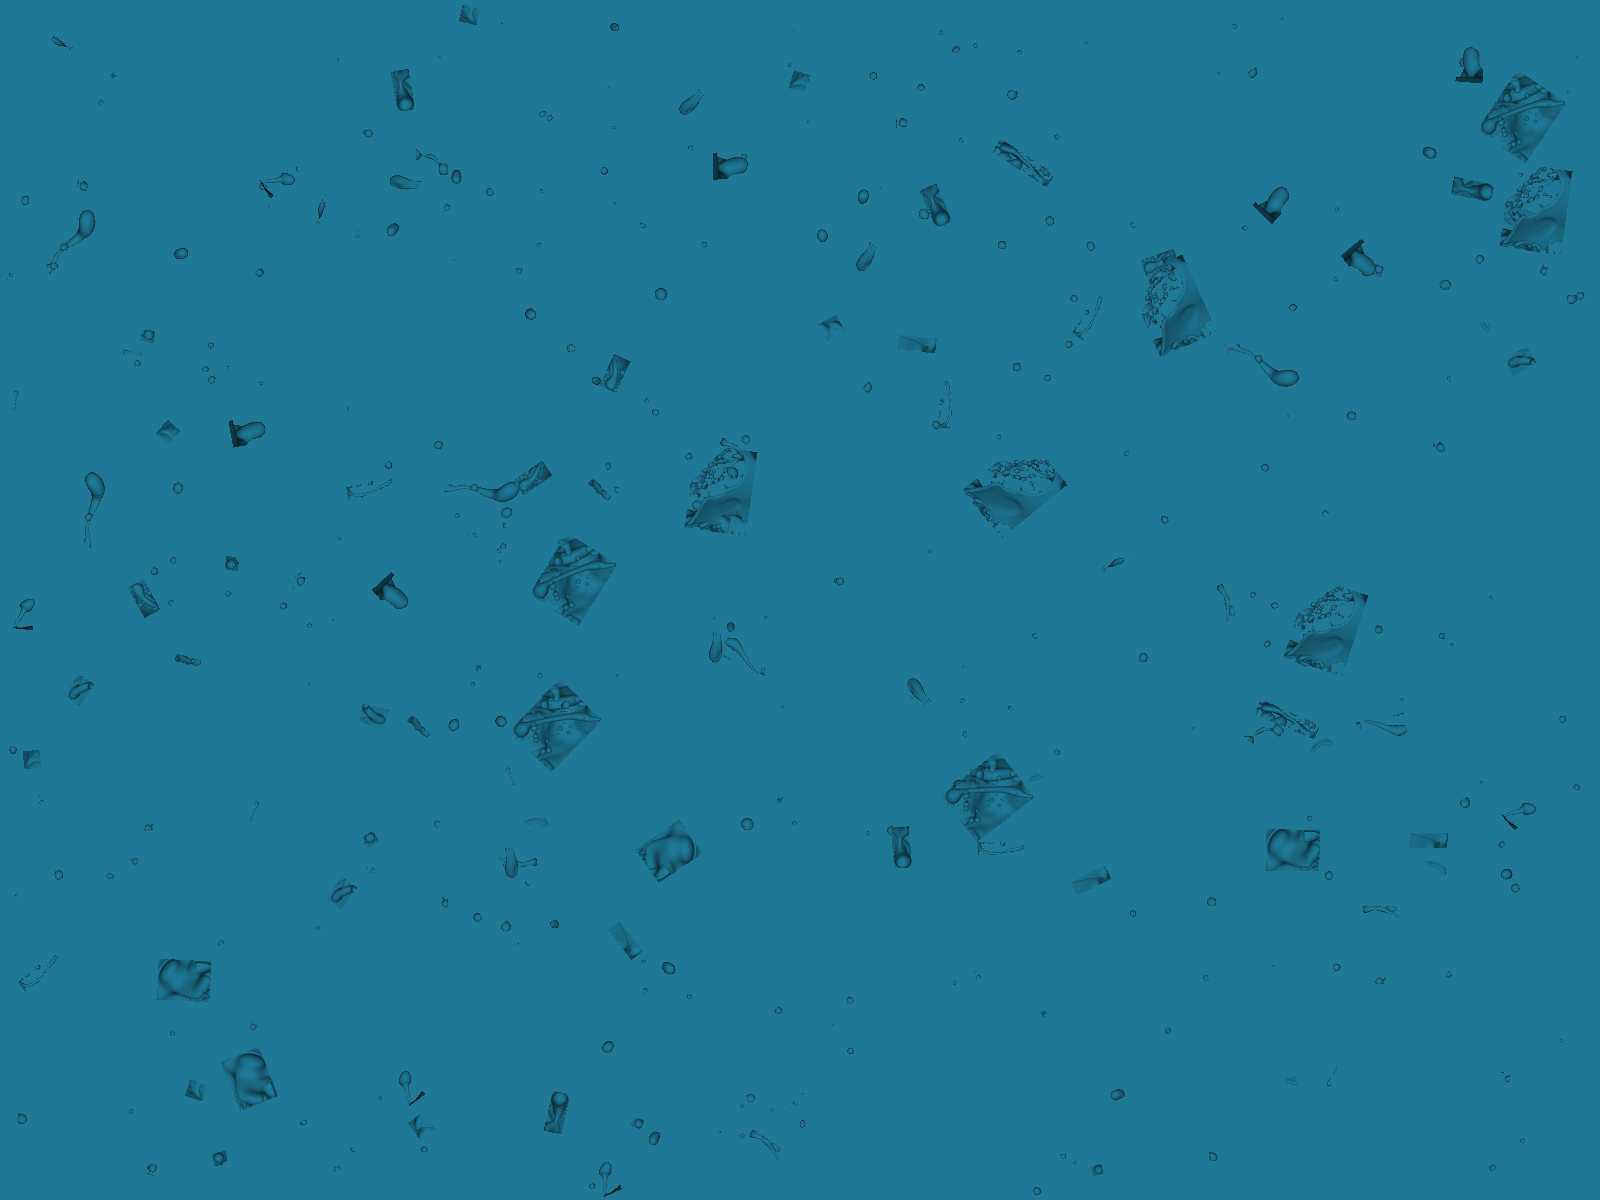Attached ligament: (508, 678, 603, 773), (940, 750, 1036, 843), (528, 532, 619, 626), (1477, 69, 1567, 164), (991, 137, 1056, 188), (1254, 700, 1322, 740), (1497, 788, 1541, 831), (256, 158, 300, 199), (384, 1066, 426, 1111), (585, 1157, 624, 1200), (918, 183, 952, 229), (513, 460, 553, 495), (127, 579, 161, 619), (598, 353, 631, 395), (543, 1090, 571, 1134), (1140, 248, 1180, 279), (1450, 176, 1495, 203), (6, 592, 37, 632), (391, 68, 416, 113), (325, 876, 358, 910), (63, 673, 94, 707), (1503, 345, 1537, 377), (889, 826, 913, 868), (1502, 204, 1534, 231), (358, 703, 391, 729), (587, 476, 614, 504), (406, 713, 432, 741), (1160, 255, 1178, 284), (174, 653, 203, 669)
Detached ligament: (50, 465, 136, 551), (441, 450, 527, 534), (1226, 326, 1304, 408), (34, 205, 112, 279), (719, 634, 785, 681), (1343, 712, 1409, 747), (16, 949, 66, 995), (1071, 290, 1111, 342), (1242, 711, 1286, 755), (847, 241, 884, 281), (345, 474, 398, 502), (745, 1129, 787, 1163), (670, 88, 711, 124), (716, 437, 758, 470), (900, 669, 932, 710), (1209, 584, 1240, 626), (380, 168, 421, 199), (703, 632, 731, 671), (414, 146, 449, 176), (1099, 548, 1133, 577), (937, 377, 956, 429), (501, 847, 524, 885), (976, 841, 1028, 857), (42, 32, 76, 54), (495, 852, 538, 870), (1362, 905, 1403, 920), (499, 764, 523, 788), (314, 194, 328, 226), (8, 388, 25, 412), (121, 344, 144, 361), (1324, 1066, 1339, 1088), (248, 800, 262, 821)
bag: (963, 436, 1068, 539), (1125, 255, 1218, 358), (1283, 576, 1369, 677), (684, 442, 758, 537), (1499, 163, 1574, 256), (635, 819, 703, 884), (220, 1046, 278, 1112), (156, 958, 212, 1003), (370, 571, 418, 619), (1266, 829, 1320, 871), (1252, 176, 1299, 224), (1340, 238, 1386, 286), (228, 413, 271, 447), (1455, 43, 1487, 84), (712, 151, 752, 180)
drop: (656, 955, 682, 982), (519, 303, 544, 328), (1417, 141, 1443, 166), (490, 708, 514, 735), (852, 183, 876, 209), (166, 479, 190, 504), (1430, 274, 1454, 297), (1494, 862, 1517, 887), (1198, 892, 1221, 915), (813, 224, 834, 248), (1130, 644, 1151, 667), (1338, 407, 1361, 429), (829, 568, 850, 591), (1455, 50, 1477, 72), (358, 121, 379, 142), (598, 1035, 619, 1058), (45, 863, 67, 884), (723, 463, 745, 483), (737, 813, 758, 833), (1036, 211, 1058, 229), (360, 829, 380, 850), (721, 616, 741, 637), (496, 919, 517, 939), (383, 219, 403, 239), (741, 1089, 762, 1108), (562, 337, 581, 358), (1529, 211, 1550, 229), (144, 558, 163, 579), (1455, 795, 1474, 816), (645, 1128, 664, 1148), (1107, 1085, 1128, 1104), (736, 430, 757, 447), (1294, 649, 1313, 668), (546, 915, 564, 934), (1081, 237, 1100, 256), (653, 284, 671, 303), (171, 246, 193, 262), (249, 262, 268, 280), (210, 1150, 229, 1167), (913, 202, 931, 221), (1049, 129, 1067, 147), (687, 495, 704, 514), (1320, 866, 1339, 884), (430, 436, 449, 454), (253, 179, 271, 197), (480, 185, 498, 203), (43, 256, 60, 274), (495, 505, 513, 523), (1507, 879, 1524, 896), (446, 715, 462, 734), (139, 328, 156, 344), (1470, 250, 1487, 267), (467, 910, 485, 926), (1300, 812, 1318, 828), (680, 989, 697, 1007), (969, 38, 986, 54), (301, 619, 317, 637), (950, 776, 966, 794), (1002, 88, 1019, 105), (859, 379, 877, 396), (607, 19, 624, 35), (217, 585, 233, 601), (842, 992, 858, 1008), (927, 416, 944, 432), (1284, 300, 1300, 316), (912, 78, 929, 95), (292, 571, 309, 587), (1314, 504, 1330, 521), (1238, 221, 1254, 238), (1561, 292, 1579, 308), (449, 168, 464, 185), (1157, 514, 1173, 529), (202, 372, 217, 388), (588, 373, 603, 389), (1327, 959, 1343, 974), (1571, 287, 1587, 303), (1028, 1182, 1044, 1197), (596, 163, 612, 178), (1284, 715, 1300, 730), (733, 1129, 750, 1145), (16, 1113, 31, 1129), (1009, 359, 1026, 374), (765, 1103, 780, 1119), (1369, 621, 1385, 637), (864, 68, 879, 83), (1256, 460, 1271, 475), (380, 456, 396, 471), (530, 239, 546, 255), (275, 597, 290, 613), (511, 263, 527, 279), (296, 1117, 311, 1132), (144, 1162, 159, 1177), (426, 816, 441, 831), (1058, 337, 1075, 350), (1245, 66, 1261, 79), (226, 556, 239, 571), (540, 113, 556, 127), (1012, 45, 1026, 61), (1371, 263, 1385, 279), (630, 1116, 645, 1129), (932, 26, 947, 40), (1440, 372, 1455, 386), (261, 195, 275, 211), (1279, 410, 1293, 425), (771, 1002, 785, 1017), (648, 406, 661, 421), (246, 1018, 260, 1034), (736, 150, 751, 164), (31, 794, 47, 808), (76, 178, 89, 193), (16, 194, 33, 207), (695, 239, 709, 253), (440, 200, 454, 214), (1027, 632, 1041, 645), (1090, 1163, 1104, 1177), (449, 508, 462, 522), (165, 1029, 179, 1042), (1516, 1136, 1529, 1150), (535, 106, 549, 120), (1329, 200, 1343, 214), (1220, 343, 1233, 357), (969, 969, 983, 983), (1206, 1150, 1220, 1163), (1329, 270, 1342, 285), (787, 20, 800, 35), (1556, 1032, 1569, 1047), (1247, 589, 1260, 603), (1041, 372, 1054, 384), (1269, 600, 1283, 613), (1259, 638, 1272, 650), (212, 935, 226, 948), (163, 596, 175, 610), (1125, 221, 1138, 234), (125, 1103, 137, 1117), (493, 556, 506, 568), (787, 1099, 801, 1112), (166, 555, 180, 567), (1057, 1148, 1070, 1162), (609, 197, 621, 211), (1537, 263, 1550, 277), (894, 116, 908, 129), (559, 700, 572, 713), (1120, 449, 1133, 463), (955, 135, 968, 147), (1162, 1024, 1174, 1036), (204, 338, 217, 350), (994, 239, 1007, 252), (329, 1161, 341, 1174), (331, 54, 344, 67), (105, 868, 117, 881), (4, 271, 16, 284), (965, 764, 978, 776), (776, 701, 789, 713), (1514, 168, 1526, 182), (1555, 713, 1569, 725), (553, 536, 567, 547), (467, 529, 479, 543), (364, 863, 375, 877), (860, 828, 873, 839), (886, 826, 897, 838), (8, 742, 19, 755), (844, 1045, 855, 1058), (947, 44, 960, 55), (682, 451, 694, 463), (609, 484, 620, 497), (640, 396, 653, 407), (639, 984, 650, 997), (466, 678, 477, 691), (758, 611, 771, 623), (333, 533, 345, 545), (328, 611, 339, 624), (955, 695, 966, 707), (796, 1117, 808, 1129), (132, 357, 144, 369), (1487, 1161, 1498, 1174), (957, 661, 969, 673), (438, 896, 450, 909), (1432, 441, 1445, 453), (532, 669, 544, 681), (491, 545, 501, 558), (801, 116, 815, 126), (312, 923, 324, 934), (498, 542, 509, 553), (1051, 747, 1062, 759), (784, 61, 795, 72), (1475, 776, 1487, 788), (736, 1100, 747, 1112), (1397, 695, 1409, 706), (713, 1127, 724, 1138), (304, 679, 315, 691), (825, 1018, 837, 1030), (510, 939, 522, 950), (535, 185, 547, 197), (1495, 838, 1507, 850), (1519, 347, 1531, 358), (94, 97, 106, 108), (1128, 909, 1138, 921), (609, 121, 619, 134), (637, 218, 648, 231), (1571, 782, 1584, 792), (1500, 1071, 1511, 1084), (1374, 976, 1387, 986), (639, 957, 649, 968), (1436, 630, 1446, 642), (587, 1182, 598, 1192), (254, 378, 266, 388), (1267, 962, 1279, 972), (1277, 13, 1288, 24), (991, 431, 1002, 442), (1446, 639, 1456, 650), (351, 229, 363, 239), (130, 856, 140, 867), (612, 671, 624, 681), (144, 822, 155, 832), (1070, 294, 1078, 306), (257, 1061, 270, 1070), (949, 978, 959, 988), (601, 82, 611, 92), (11, 892, 21, 903), (496, 16, 506, 26), (433, 53, 443, 63), (1228, 21, 1238, 32), (1563, 89, 1574, 100), (1572, 55, 1582, 66), (1485, 592, 1495, 603), (108, 71, 118, 81), (603, 461, 614, 471), (291, 165, 301, 175), (684, 144, 694, 154), (1004, 705, 1015, 713), (1191, 724, 1199, 735), (925, 545, 934, 556), (1443, 971, 1453, 979), (202, 366, 210, 376), (1081, 38, 1091, 47), (597, 100, 606, 110), (825, 689, 834, 700), (727, 784, 737, 793), (220, 363, 231, 372), (1039, 1008, 1048, 1018), (775, 795, 784, 805), (420, 1145, 430, 1153), (346, 1146, 357, 1155), (1199, 976, 1209, 984), (375, 1093, 384, 1102), (1213, 69, 1222, 78), (711, 614, 719, 623), (1191, 455, 1199, 464), (449, 253, 457, 262), (876, 185, 884, 194), (907, 693, 917, 701), (787, 881, 797, 889), (1071, 1158, 1078, 1168), (791, 819, 799, 828), (345, 405, 353, 413), (522, 881, 530, 889), (499, 521, 506, 529), (961, 729, 968, 739), (475, 663, 483, 671), (797, 1090, 804, 1097), (290, 586, 296, 592)
lobe: (607, 920, 644, 961), (1070, 865, 1112, 896), (407, 1111, 436, 1141), (816, 314, 847, 342), (897, 334, 937, 354), (1308, 734, 1335, 761), (718, 508, 746, 534), (155, 418, 181, 445), (1409, 832, 1448, 850), (522, 813, 551, 834), (787, 71, 811, 93), (184, 1079, 208, 1102), (459, 4, 481, 26), (21, 749, 42, 770), (1424, 860, 1448, 877), (1028, 770, 1049, 789), (1284, 1075, 1301, 1095), (1477, 321, 1492, 340)
